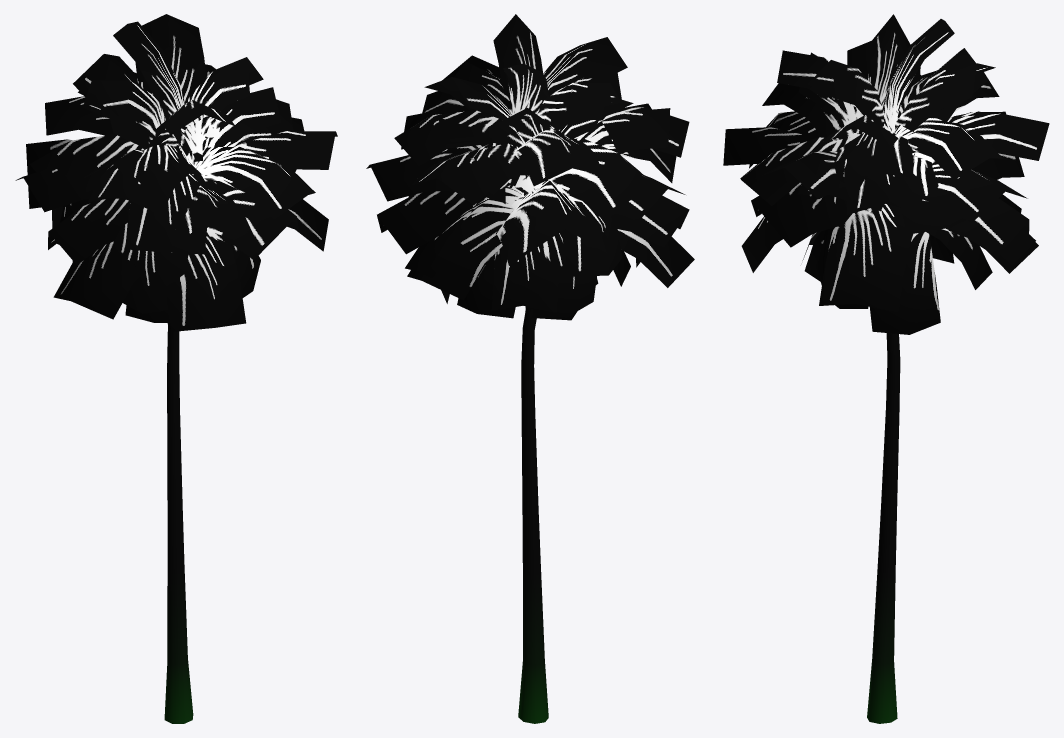
The model's file is P_DesertCoconutPalm06.obj.
3 renders of one model, left to right at view 1: azimuth 30°, elevation 25°; view 2: azimuth 150°, elevation 25°; view 3: azimuth 270°, elevation 25°, orthographic.
Bounding box in the file's own units: 7.46 × 17.15 × 7.37.
